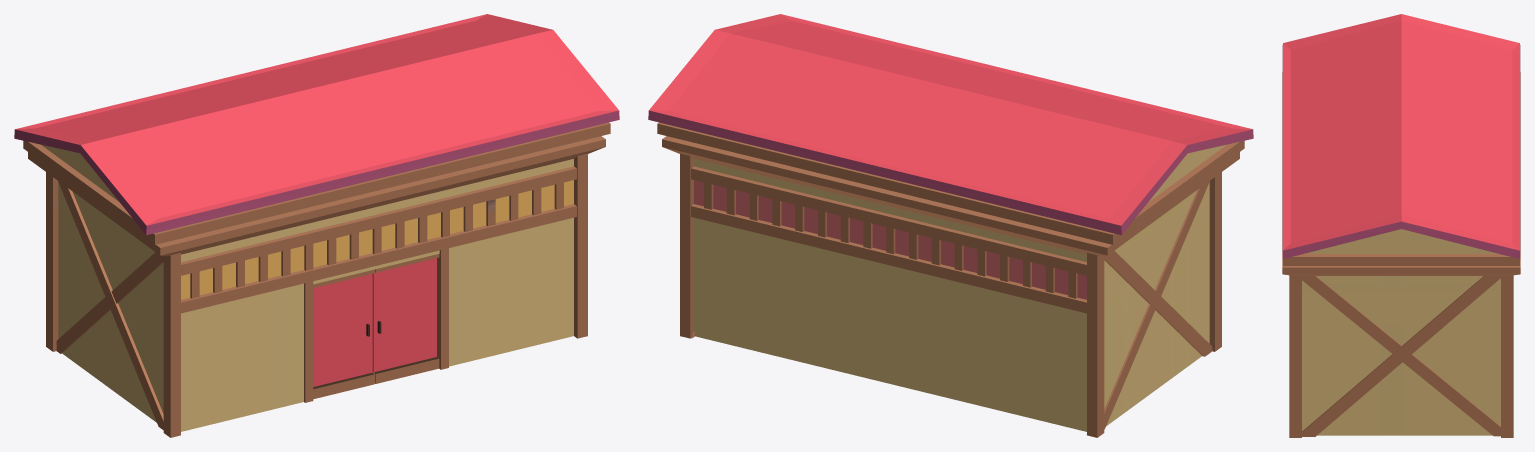
The model's file is Barn.fbx.
The picture shows the model from 3 angles, left to right: view 1: azimuth 30°, elevation 25°; view 2: azimuth 150°, elevation 25°; view 3: azimuth 270°, elevation 25°; orthographic projection. The views are drawn at different scales.
Parts seen in each view (by area): view 1: Cube; view 2: Cube; view 3: Cube.
Boxes of the visible parts, left/top/right/bottom form: Cube: left=14, top=14, right=619, bottom=437; Cube: left=648, top=14, right=1253, bottom=437; Cube: left=1282, top=14, right=1520, bottom=437.
Size of the model in its own units: 2283 by 1172 by 1105.
